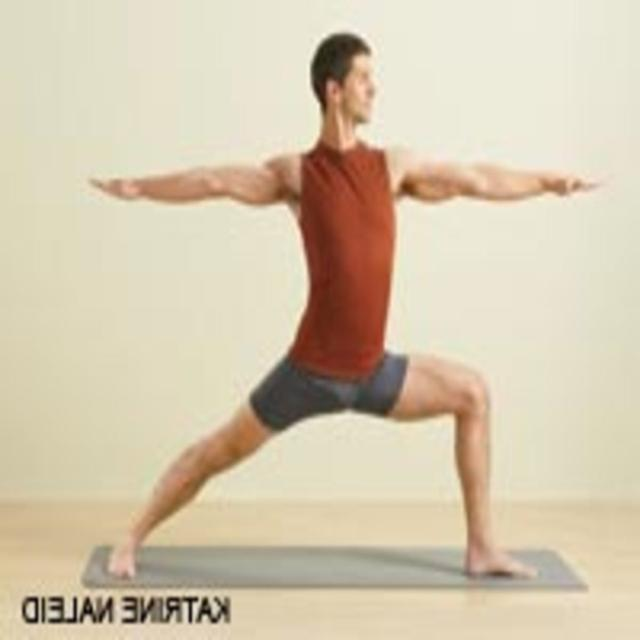Warrior_II: (86, 23, 604, 583)
